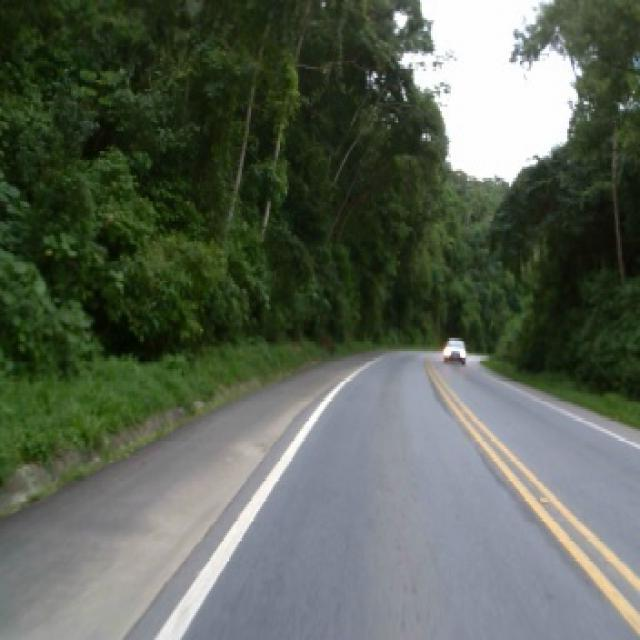Poth-hole: (538, 493, 552, 502)
